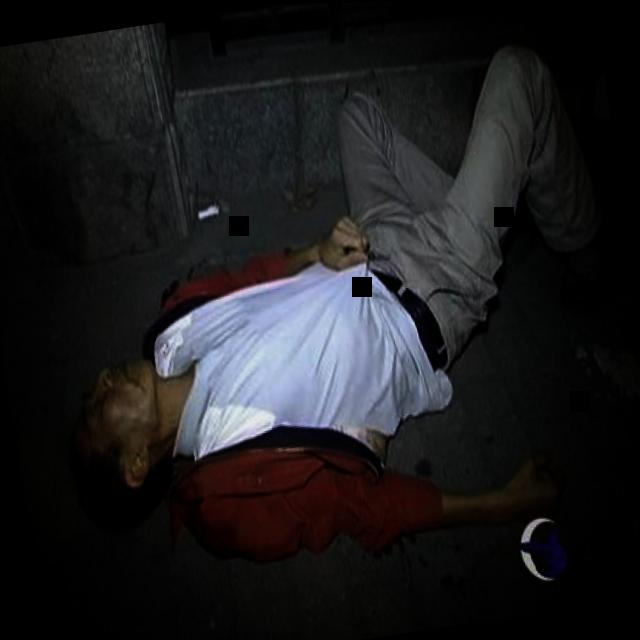Fall-Detected: (0, 17, 633, 629)
